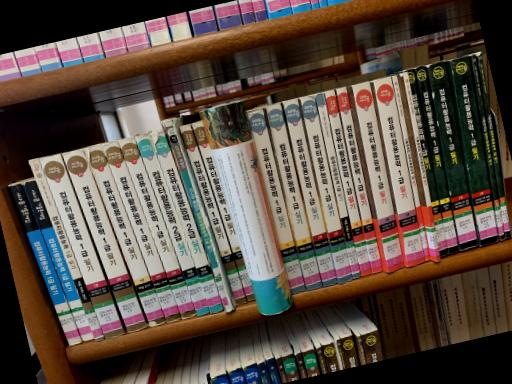book-spine: (39, 154, 125, 339), (62, 149, 147, 332), (85, 145, 165, 326), (102, 141, 181, 322), (119, 137, 196, 319), (28, 158, 104, 340), (134, 134, 210, 315), (163, 119, 233, 312), (154, 131, 223, 312), (179, 123, 246, 304), (8, 183, 82, 345), (23, 179, 95, 342), (192, 121, 255, 300), (247, 108, 305, 294), (266, 102, 321, 290), (283, 98, 337, 287), (300, 95, 352, 283), (352, 81, 403, 272), (374, 76, 424, 267), (428, 60, 478, 250), (336, 87, 383, 274), (451, 56, 497, 246), (325, 90, 371, 275), (316, 93, 360, 278), (415, 65, 458, 254), (407, 67, 448, 257), (402, 71, 440, 261), (392, 74, 430, 261), (470, 54, 504, 240), (478, 52, 510, 237)
